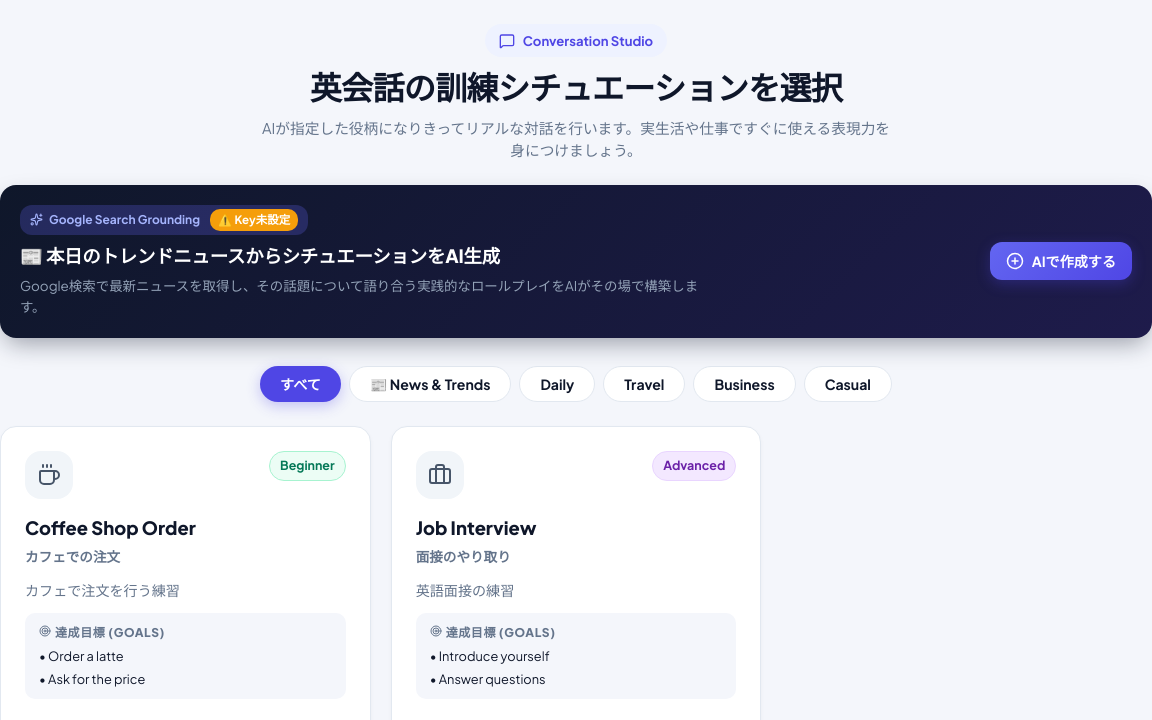
Test: SituationSelector component › filters situations when category buttons are clicked
expect the text "Coffee Shop Order" is shown: met, box [25, 516, 196, 539]
Note: Click "Business" category button
Step 1. Click the button "Business" → (745, 384), box [693, 366, 796, 402]
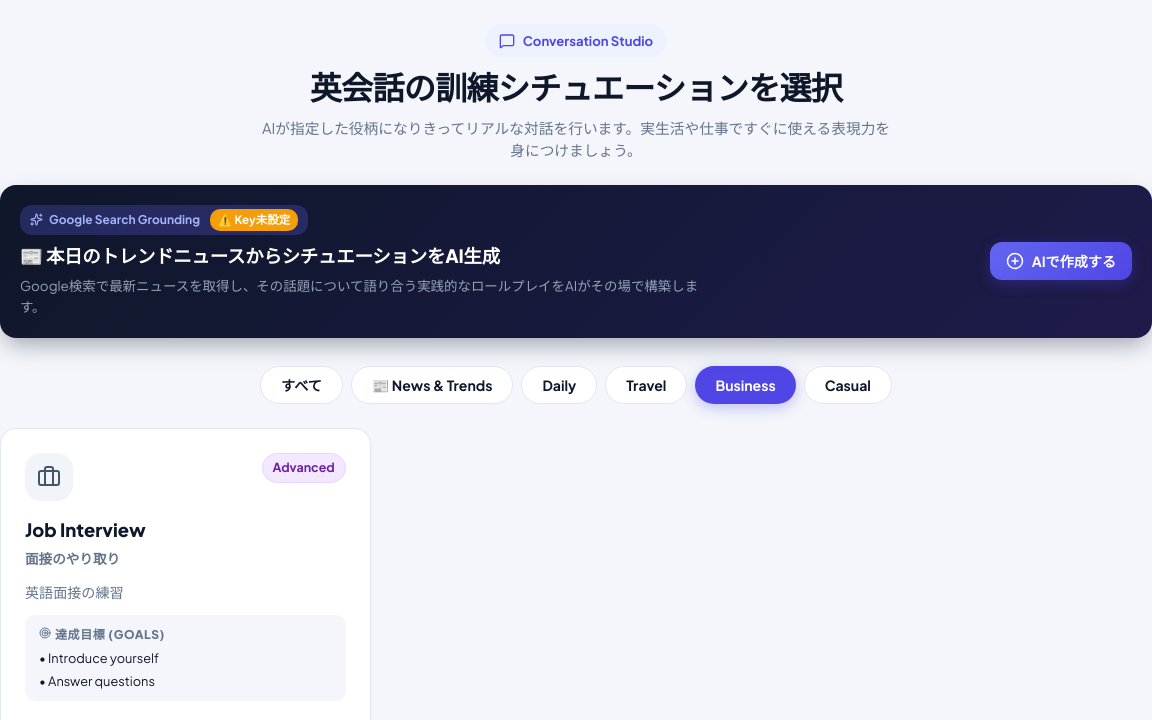
expect the text "Job Interview" is shown: met, box [25, 518, 146, 541]
expect the text "Coffee Shop Order" is gone: met
